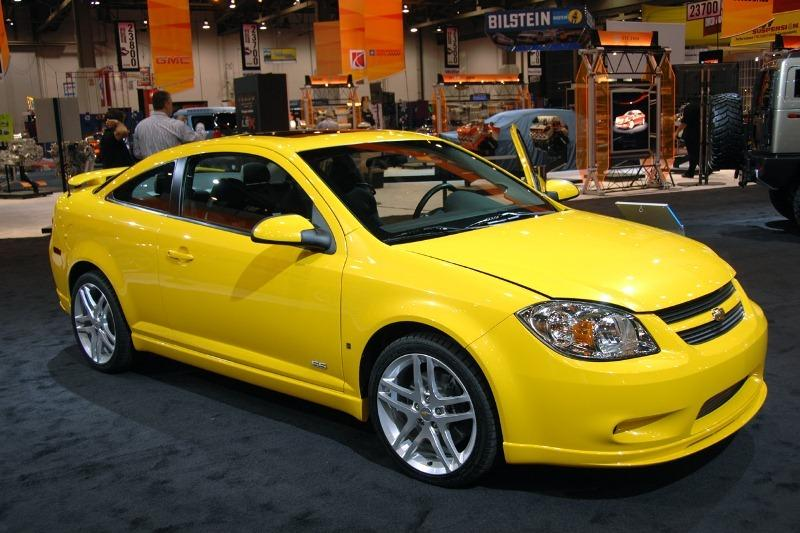car: (39, 105, 782, 506)
